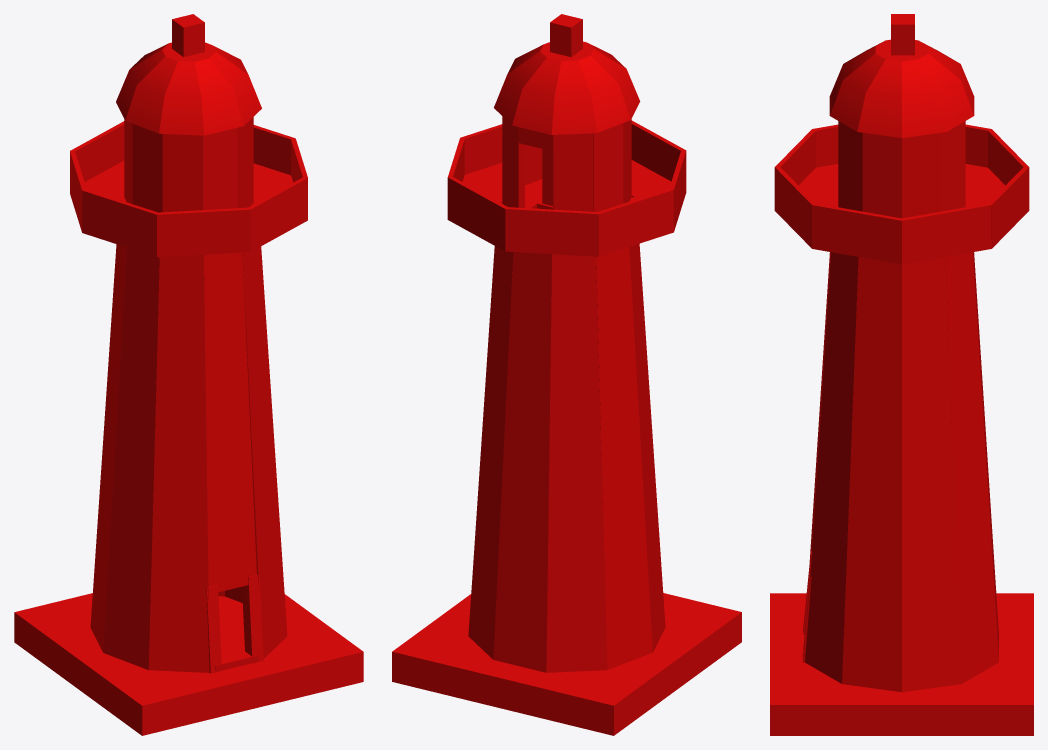
Rendered from SM_Bld_Lighthouse_01_Collision.fbx.
3 views of the same model, side by side, from view 1: azimuth 30°, elevation 25°; view 2: azimuth 150°, elevation 25°; view 3: azimuth 270°, elevation 25° (orthographic). The views are drawn at different scales.
Parts seen in each view (by area): view 1: SM_Bld_Lighthouse_01_Collision; view 2: SM_Bld_Lighthouse_01_Collision; view 3: SM_Bld_Lighthouse_01_Collision.
Part boxes in pixels (bbox=[...]): SM_Bld_Lighthouse_01_Collision: bbox=[14, 14, 363, 735]; SM_Bld_Lighthouse_01_Collision: bbox=[392, 14, 741, 735]; SM_Bld_Lighthouse_01_Collision: bbox=[770, 14, 1033, 735].
Size of the model in its own units: 749 by 2072 by 749.
